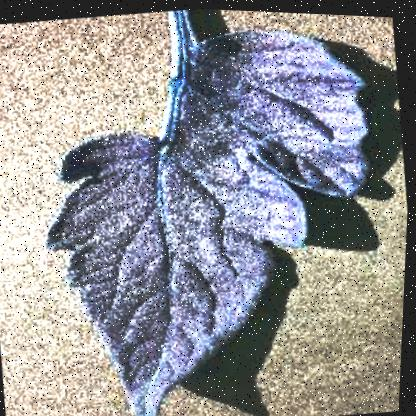Healthy: (12, 0, 414, 415)
